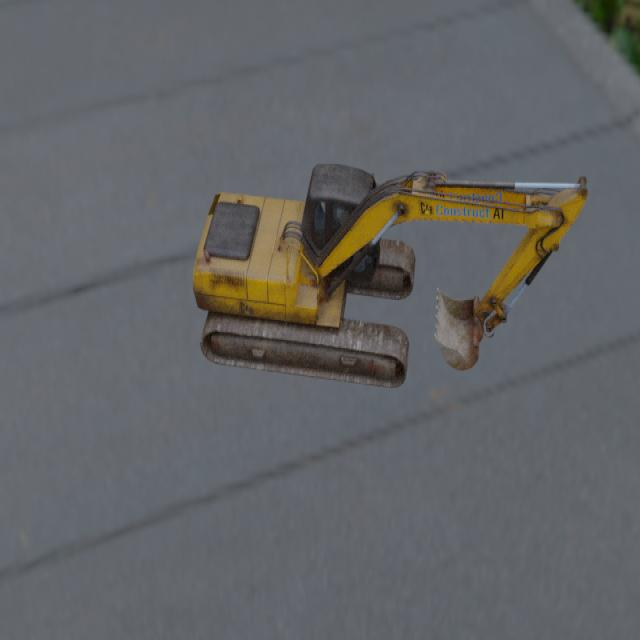excavator: (192, 163, 587, 388)
